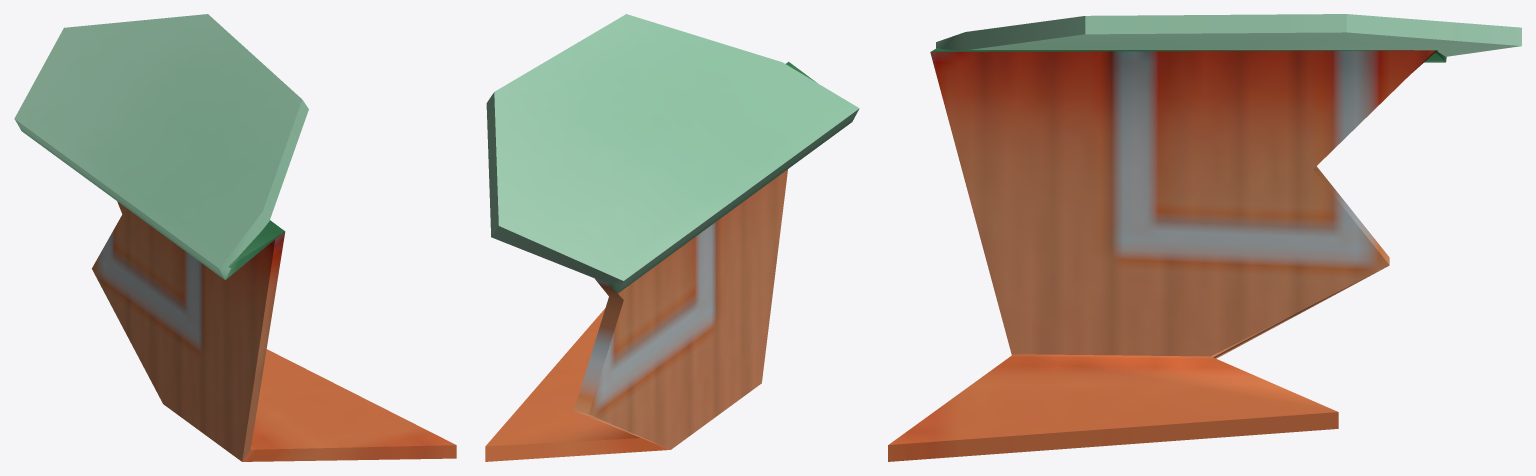
Rendered from B4Broke04.FBX.
3 renders of one model, left to right at view 1: azimuth 30°, elevation 25°; view 2: azimuth 150°, elevation 25°; view 3: azimuth 270°, elevation 25°, orthographic. The views are drawn at different scales.
Parts seen in each view (by area): view 1: B4Broke04; view 2: B4Broke04; view 3: B4Broke04.
Part boxes in pixels (x1,y1,x2,y2): B4Broke04: (14,14,456,461); B4Broke04: (485,14,859,461); B4Broke04: (888,14,1521,461).
Size of the model in its own units: 32.51 by 46.45 by 65.37.
